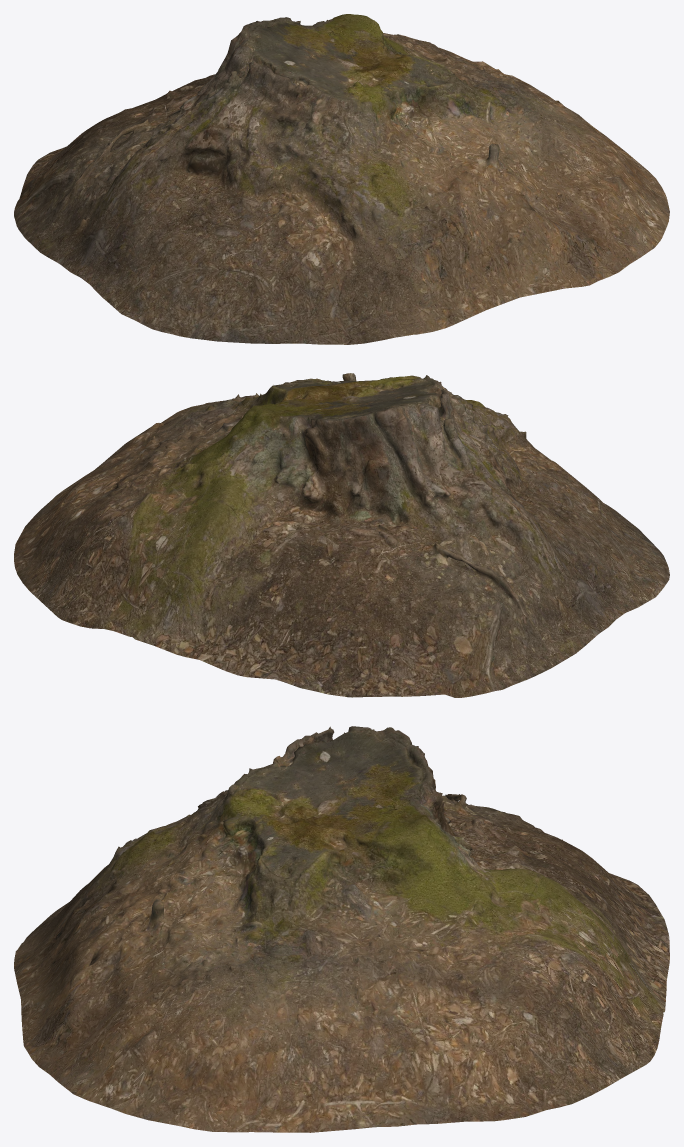
File: tree_stump_02.glb
The picture shows the model from 3 angles, top to bottom: view 1: azimuth 30°, elevation 25°; view 2: azimuth 150°, elevation 25°; view 3: azimuth 270°, elevation 25°; orthographic projection. The views are drawn at different scales.
Visible parts, largest first — view 1: tree_stump_02; view 2: tree_stump_02; view 3: tree_stump_02.
Part boxes in pixels (left/top/right/bottom): tree_stump_02: left=14, top=14, right=669, bottom=344; tree_stump_02: left=14, top=373, right=669, bottom=697; tree_stump_02: left=14, top=726, right=669, bottom=1132.
Bounding box in the file's own units: 1.52 × 0.522 × 1.39.
1 material, 1 textured.
